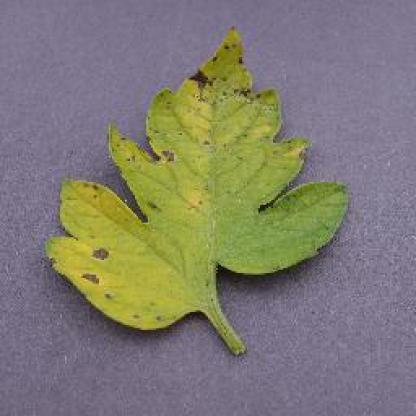bad leaf: (80, 12, 343, 344), (25, 175, 368, 345), (21, 189, 312, 368), (64, 99, 355, 228), (136, 21, 324, 135)
